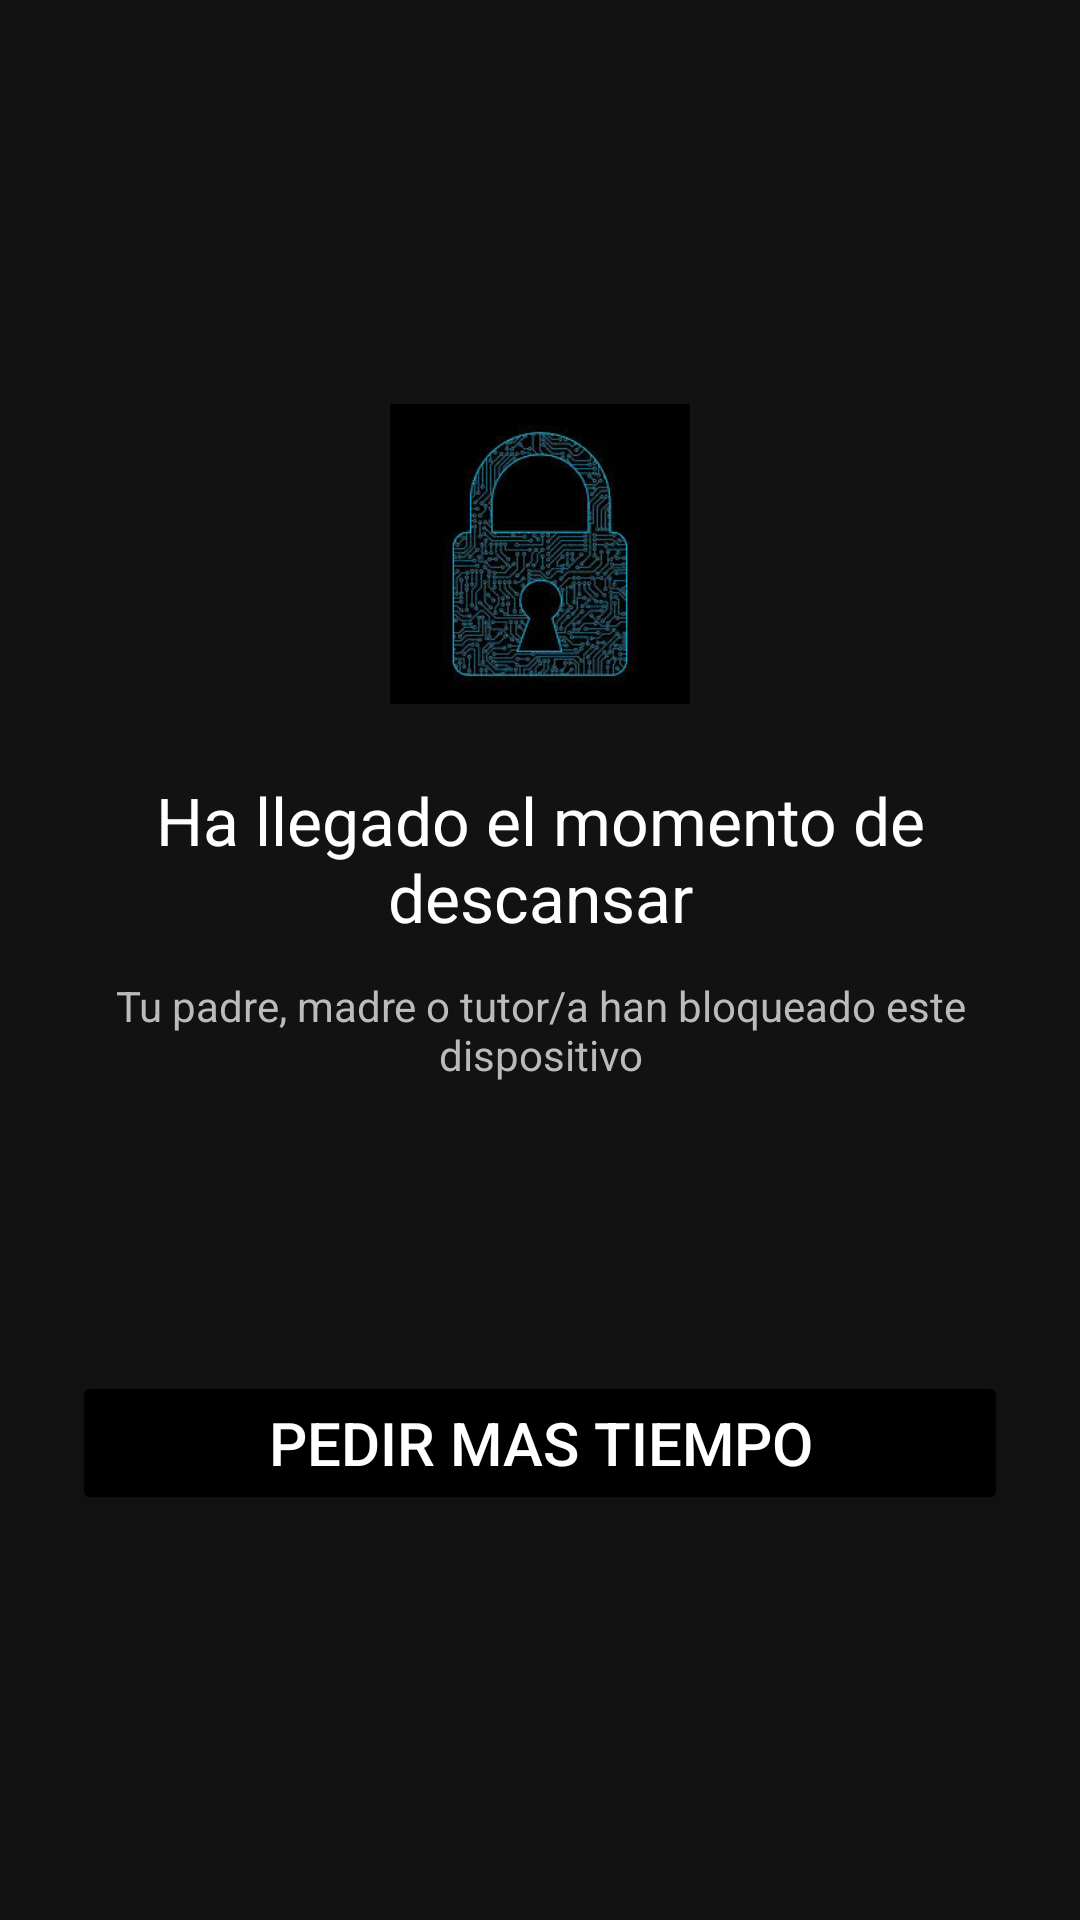

Locate icon controls on the screen. Image size 1080w x 1920h, boxes as (x1, y1, x2, y2).
Candado: (390, 404, 690, 704)
